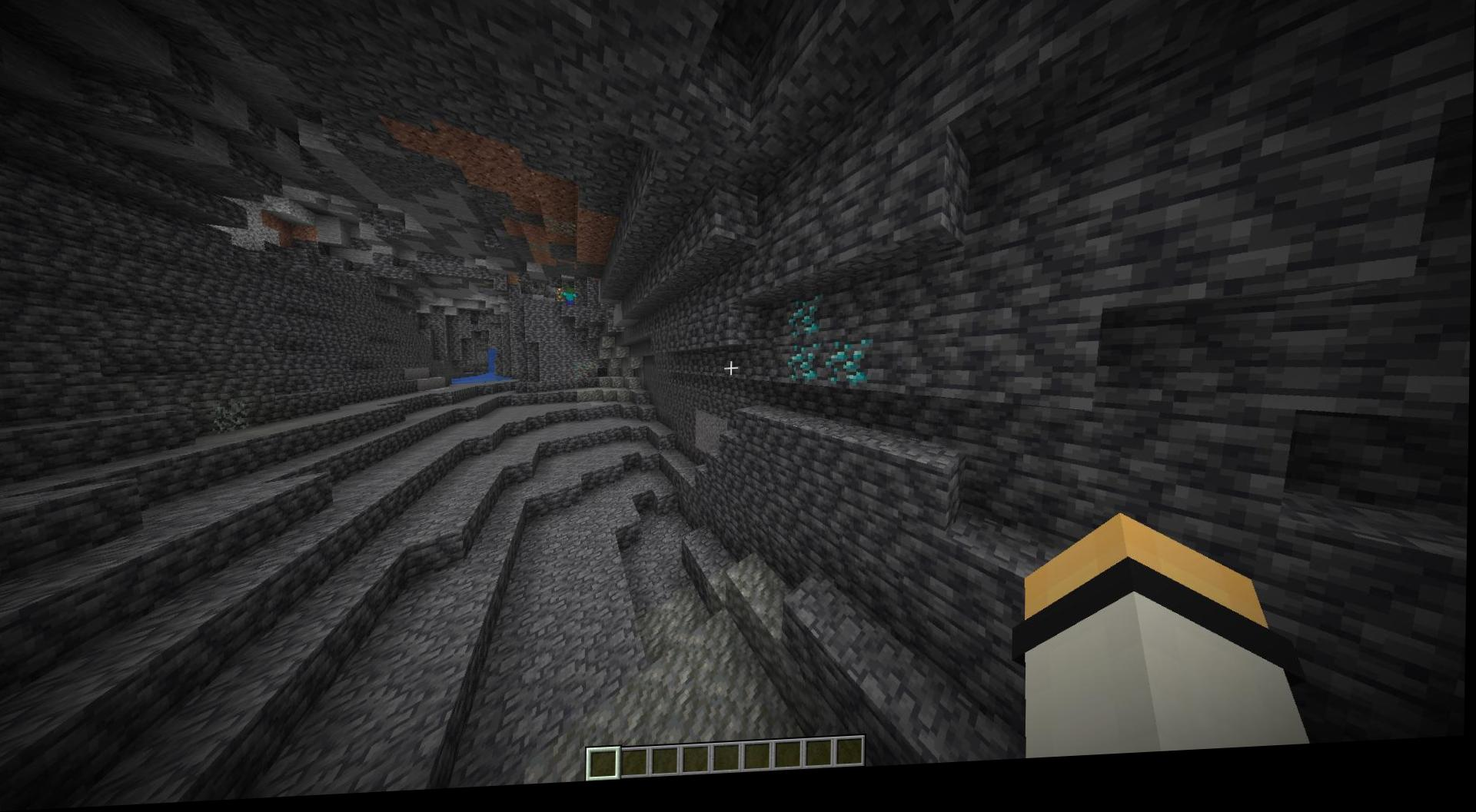diamond ore: (823, 342, 877, 402), (784, 344, 826, 395), (785, 304, 826, 350)
